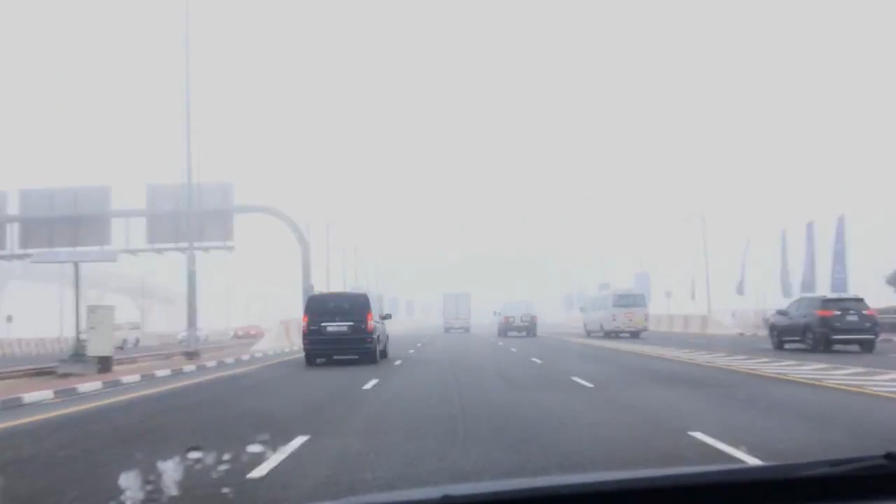bus: (578, 289, 651, 340), (75, 319, 145, 356), (441, 292, 473, 334)
car: (302, 287, 392, 367), (766, 293, 885, 353), (492, 300, 540, 339), (175, 326, 210, 344), (234, 322, 264, 341)
